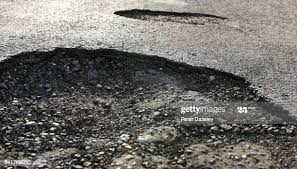pothole: (1, 46, 297, 165), (109, 5, 236, 31)
